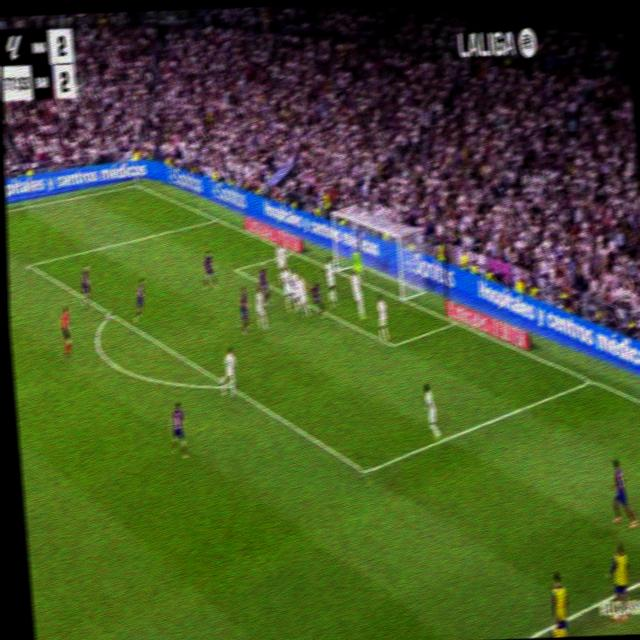bigarea_bottom_inner: (357, 456, 373, 487)
bigarea_bottom_outter: (584, 371, 597, 389)
bigarea_top_inner: (25, 258, 34, 271)
bigarea_top_outter: (210, 211, 221, 225)
bottom_arc_area_intersection: (220, 376, 233, 395)
corner: (130, 177, 142, 191)
smallarea_top_inner: (231, 261, 240, 277)
top_arc_area_intersection: (105, 305, 115, 322)
